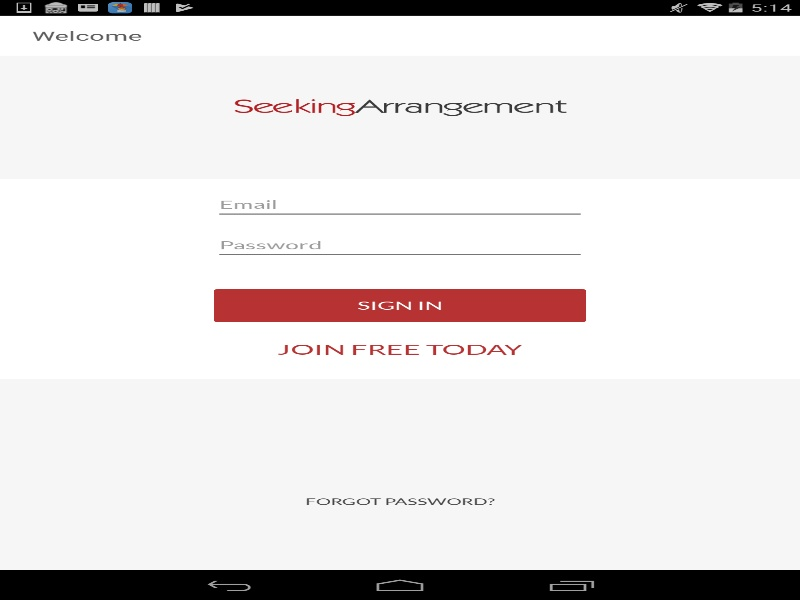Button: (214, 289, 586, 322), (214, 333, 586, 366), (214, 485, 586, 518)
Input: (214, 190, 586, 219), (214, 231, 586, 259)
